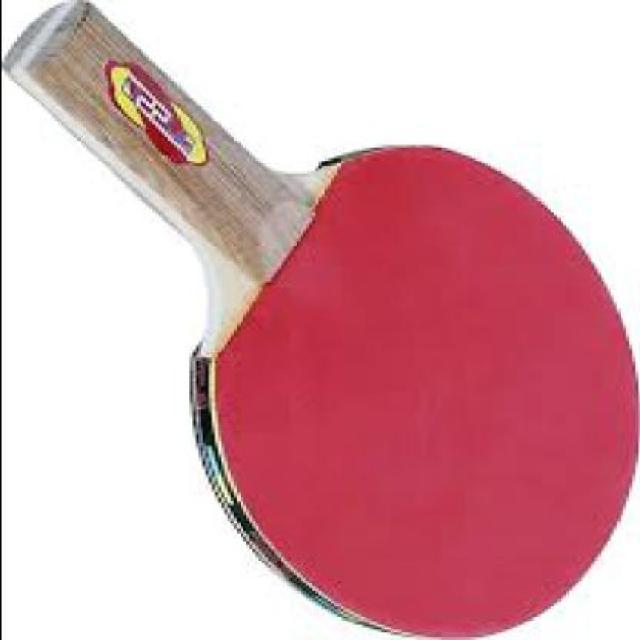table_tennis_racket: (178, 127, 637, 639)
